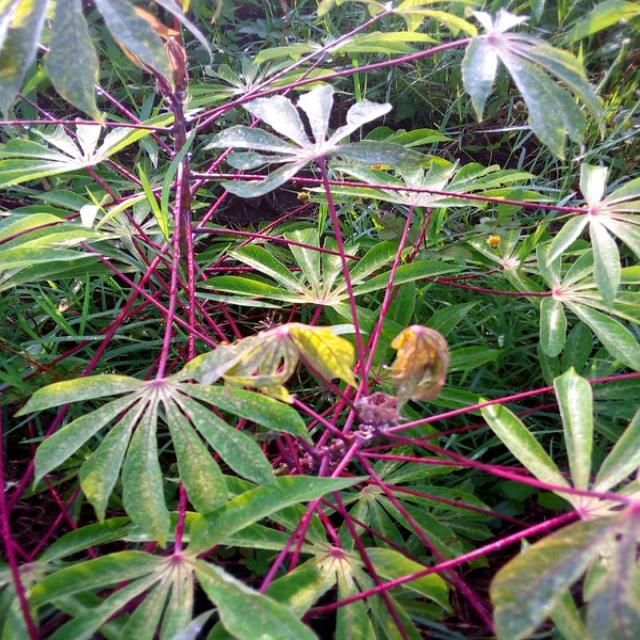cassava leaf: (1, 1, 638, 638), (459, 5, 605, 161)
